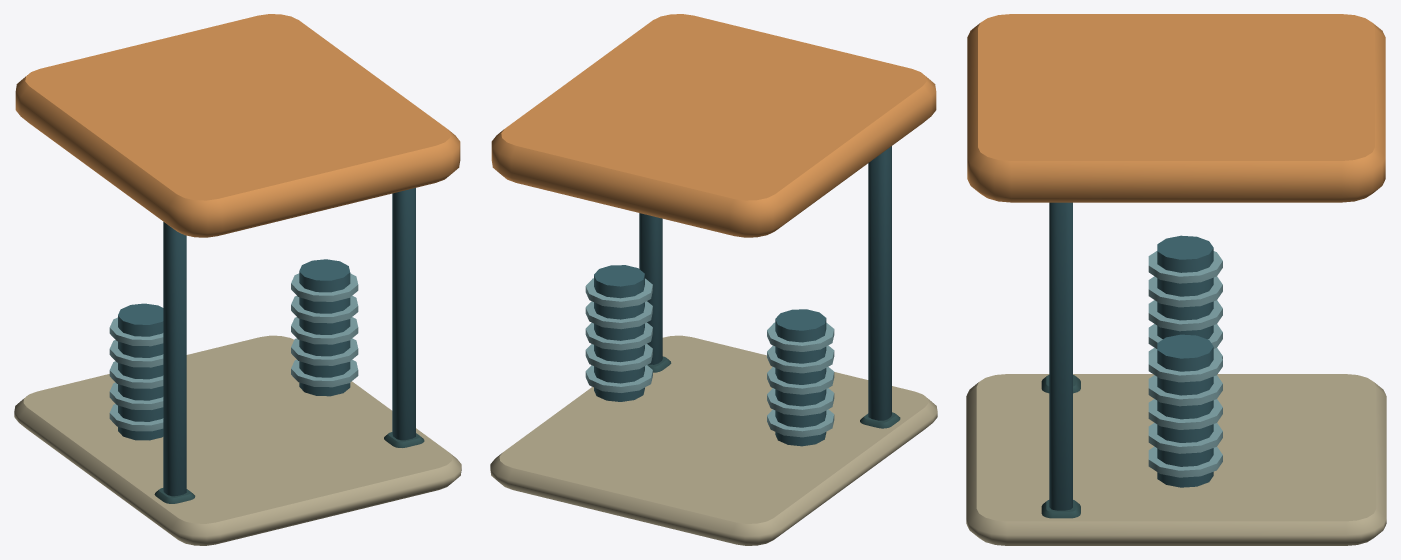
Rendered from harbor_truck_wash_2.glb.
3 renders of one model, left to right at view 1: azimuth 30°, elevation 25°; view 2: azimuth 150°, elevation 25°; view 3: azimuth 270°, elevation 25°, orthographic. The views are drawn at different scales.
Parts seen in each view (by area): view 1: HarborTruckWash2; view 2: HarborTruckWash2; view 3: HarborTruckWash2.
Part boxes in pixels (left/top/right/bottom): HarborTruckWash2: left=14, top=14, right=461, bottom=545; HarborTruckWash2: left=490, top=14, right=937, bottom=545; HarborTruckWash2: left=966, top=14, right=1386, bottom=545.
Size of the model in its own units: 2.18 by 2.51 by 2.48.
